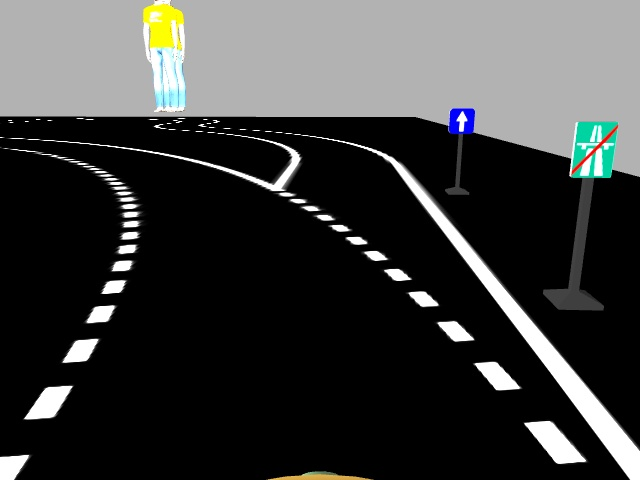HighwayExit: (572, 119, 615, 177)
OneWay: (446, 106, 475, 133)
